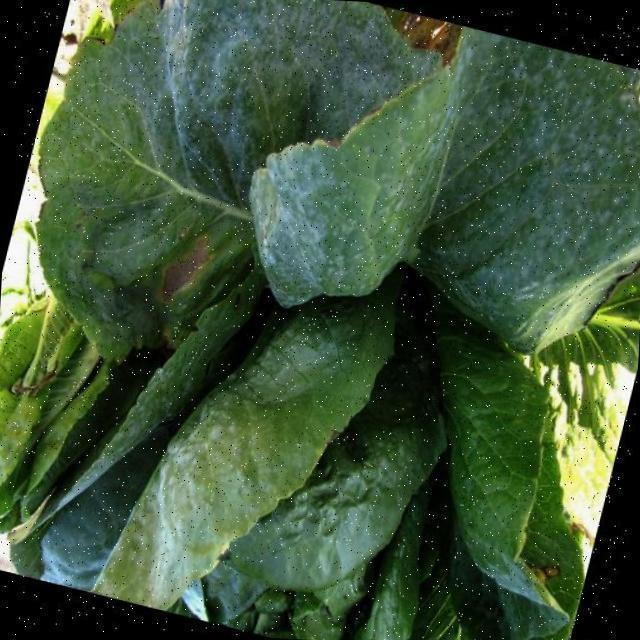Powdery_mildew_on_lettuce: (313, 26, 640, 362), (94, 0, 357, 291)
